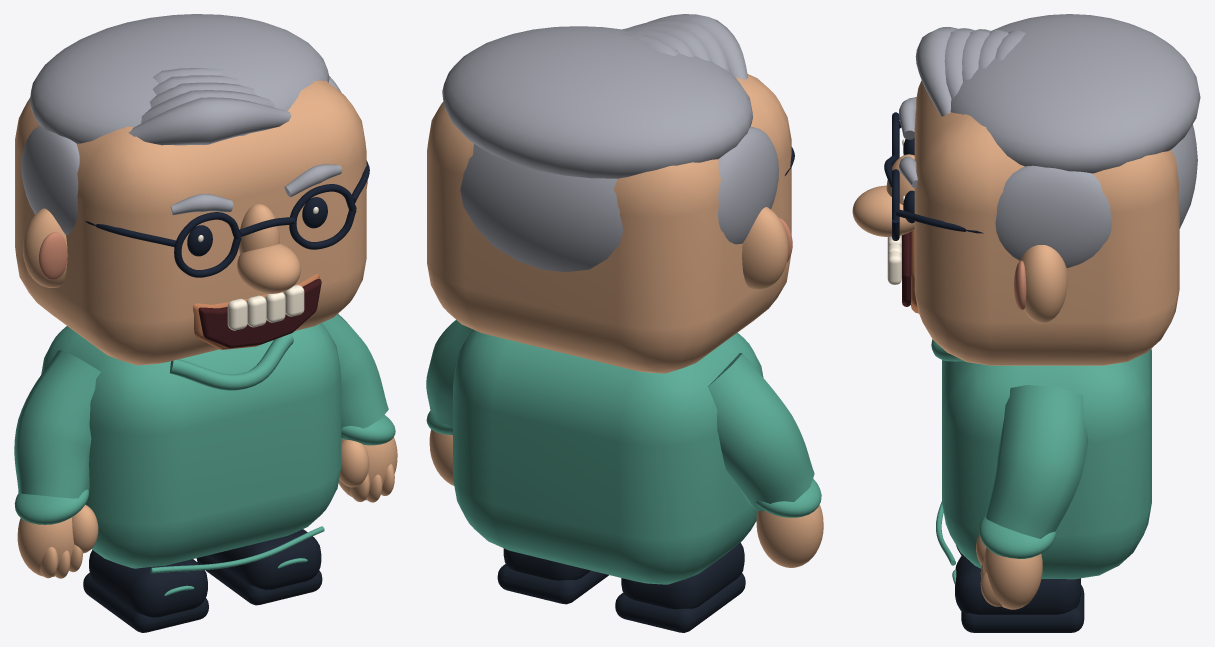
File: complainer.glb
The picture shows the model from 3 angles, left to right: view 1: azimuth 30°, elevation 25°; view 2: azimuth 150°, elevation 25°; view 3: azimuth 270°, elevation 25°; orthographic projection. The views are drawn at different scales.
Parts seen in each view (by area): view 1: complainer_warm_vinyl, complainer_satin_clothing, complainer_hair, complainer_shoes, complainer_trim, complainer_eyes, complainer_mouth, complainer_ivory, complainer_ear_inset, complainer_lip; view 2: complainer_satin_clothing, complainer_hair, complainer_warm_vinyl, complainer_shoes, complainer_trim; view 3: complainer_warm_vinyl, complainer_hair, complainer_satin_clothing, complainer_shoes, complainer_trim, complainer_eyes, complainer_ivory, complainer_mouth, complainer_ear_inset.
Boxes of the visible parts, x1,y1,x2,y2 form: complainer_warm_vinyl: (15,80,397,578); complainer_satin_clothing: (14,314,388,568); complainer_hair: (21,14,342,235); complainer_shoes: (83,529,322,632); complainer_trim: (14,334,395,595); complainer_eyes: (85,160,369,277); complainer_mouth: (198,279,321,347); complainer_ivory: (198,207,318,330); complainer_ear_inset: (39,180,367,279); complainer_lip: (193,274,319,349); complainer_satin_clothing: (426,320,814,584); complainer_hair: (442,14,778,272); complainer_warm_vinyl: (427,74,823,567); complainer_shoes: (497,542,745,632); complainer_trim: (426,411,821,517); complainer_warm_vinyl: (852,80,1179,609); complainer_hair: (899,14,1200,267); complainer_satin_clothing: (942,348,1151,579); complainer_shoes: (955,545,1084,632); complainer_trim: (931,339,1056,584); complainer_eyes: (884,112,983,240); complainer_ivory: (887,139,904,284); complainer_mouth: (902,231,911,306); complainer_ear_inset: (1014,260,1026,309).
Size of the model in its own units: 1.35 by 1.85 by 1.08.
